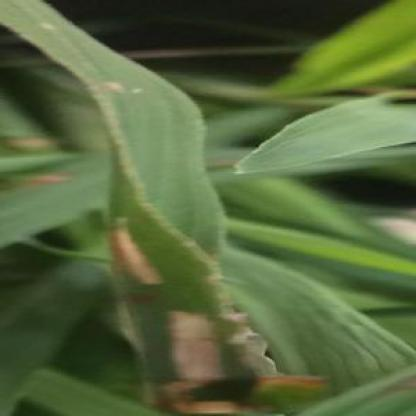Rice blast: (150, 301, 251, 402), (97, 206, 165, 299)
